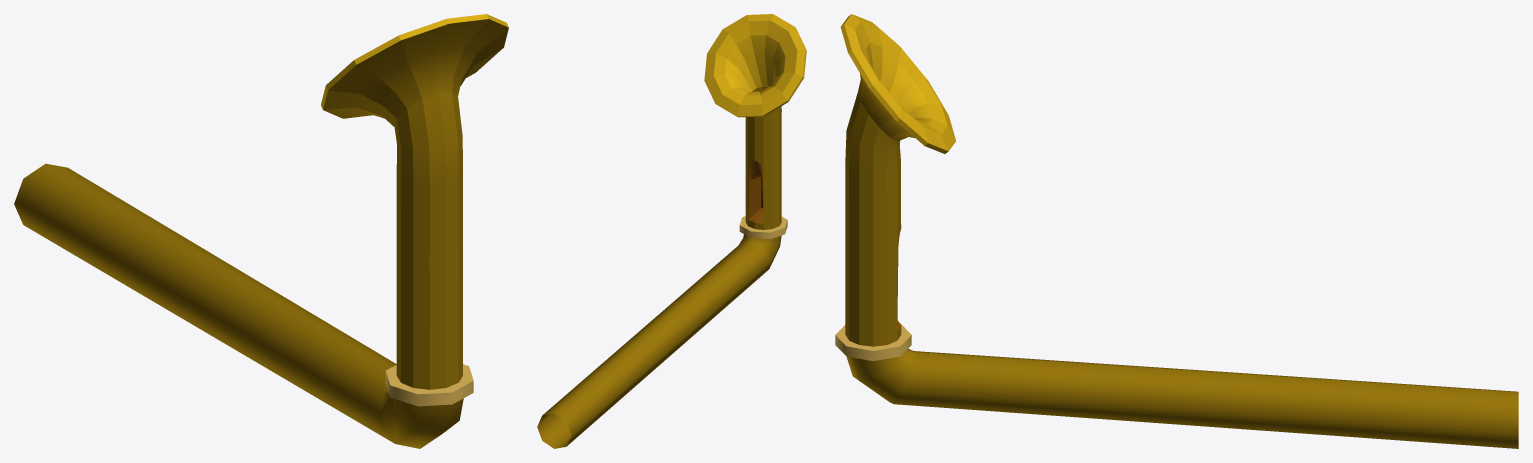
File: ENV_Xylophone_Pipe_03.fbx
3 views of the same model, side by side, from view 1: azimuth 30°, elevation 25°; view 2: azimuth 150°, elevation 25°; view 3: azimuth 270°, elevation 25° (orthographic). The views are drawn at different scales.
Parts seen in each view (by area): view 1: ENV_Xylophone_Pipe_03; view 2: ENV_Xylophone_Pipe_03; view 3: ENV_Xylophone_Pipe_03.
Part boxes in pixels (x1,y1,x2,y2): ENV_Xylophone_Pipe_03: (14, 14, 508, 448); ENV_Xylophone_Pipe_03: (537, 14, 806, 448); ENV_Xylophone_Pipe_03: (835, 14, 1518, 448).
Bounding box in the file's own units: 2198 × 6014 × 8792.
